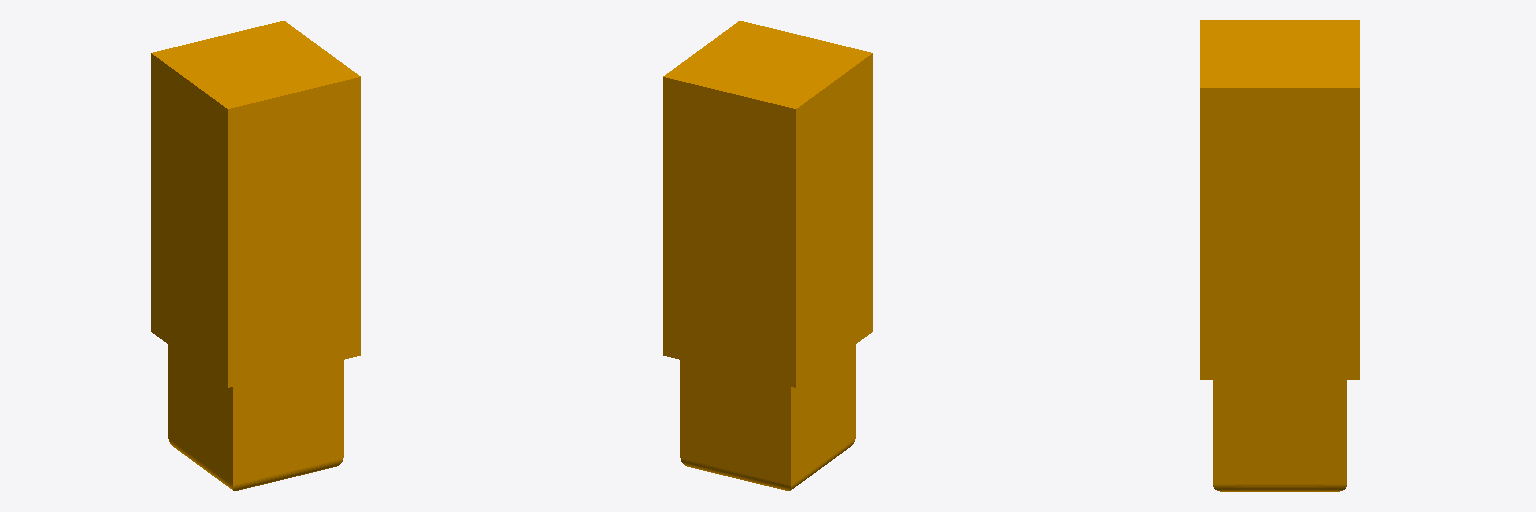
robot.urdf — 00070_plug:
<?xml version="1.0"?>
<robot name="00070_plug">
	<link name="00070_plug">
		<visual>
			<geometry>
				<mesh filename="../mesh/00070/asset_plug.obj"/>
			</geometry>
		</visual>
		<collision>
			<geometry>
				<mesh filename="../mesh/00070/asset_plug.obj"/>
			</geometry>
			<sdf resolution="256"/>
		</collision>
	</link>
</robot>

--- Facts derived from the render (not from the file) ---
Views: 3 orthographic renders of the robot side by side, from view 1: azimuth 30°, elevation 25°; view 2: azimuth 150°, elevation 25°; view 3: azimuth 270°, elevation 25°.
Robot: 00070_plug — 1 links, 0 joints (none); root link 00070_plug; default pose: all joints at 0.
Links seen in each view (by area): view 1: 00070_plug; view 2: 00070_plug; view 3: 00070_plug.
Link boxes in pixels (box(x1,y1,x2,y2)): 00070_plug: box(151, 21, 360, 490); 00070_plug: box(663, 21, 872, 490); 00070_plug: box(1200, 20, 1359, 491).
Bounding box of the posed robot: 0.03 × 0.03 × 0.085 m (x, y, z).
Meshes: 1 distinct files referenced, 1 mesh visuals loaded (1 OBJ).
